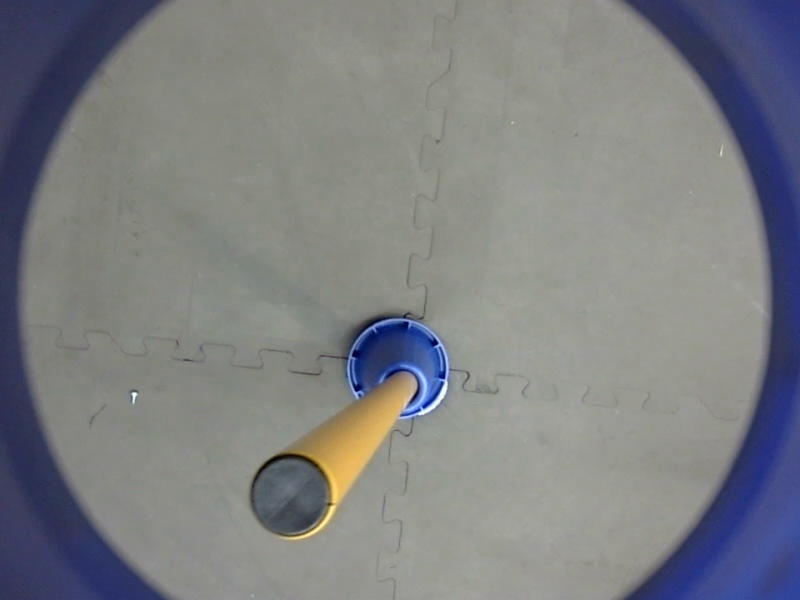tip: (244, 448, 339, 545)
